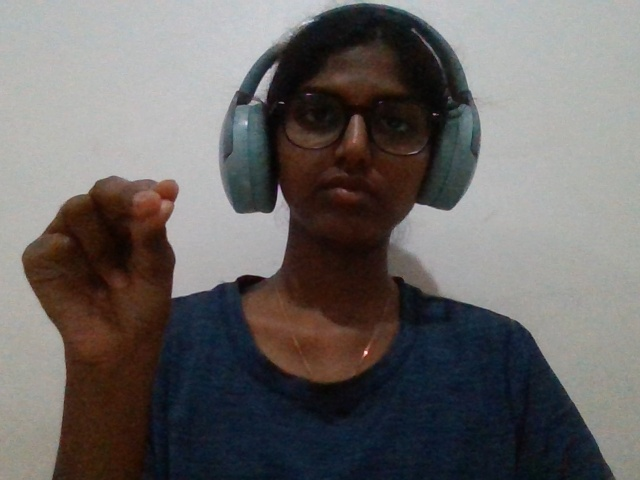No: (8, 166, 229, 418)
